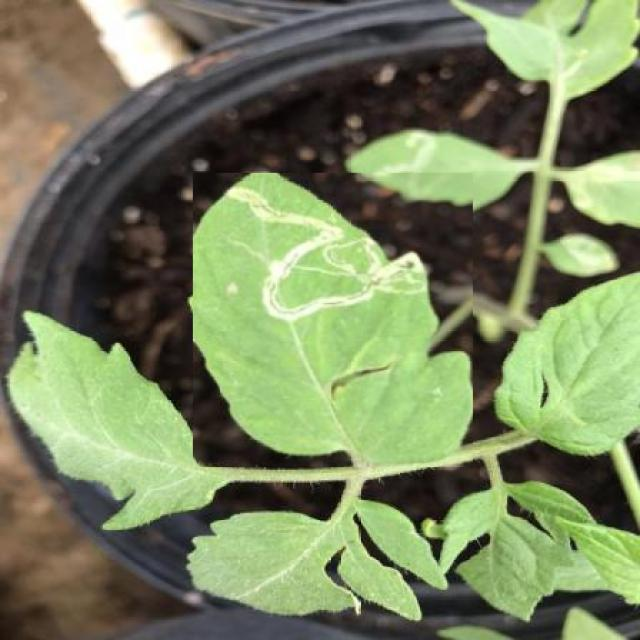Leaf Miner: (194, 173, 474, 468)
